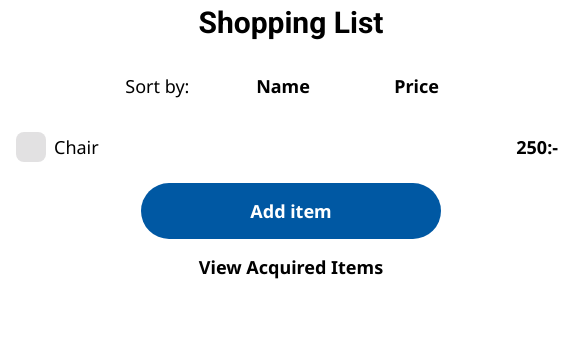
Test case: should show acquired items when the View Acquired Items button is clicked
Click the button "View Acquired Items": (291,267) left=199, top=255, right=383, bottom=279
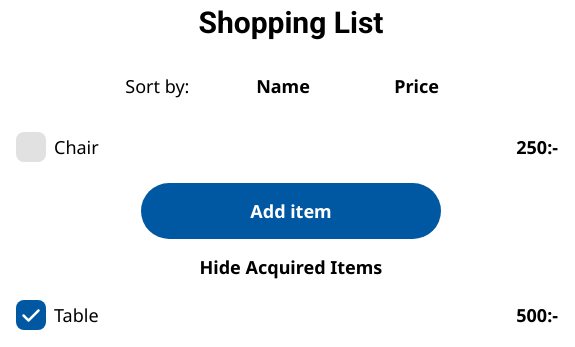
Now the text "Table" is shown, box left=54, top=303, right=98, bottom=327
